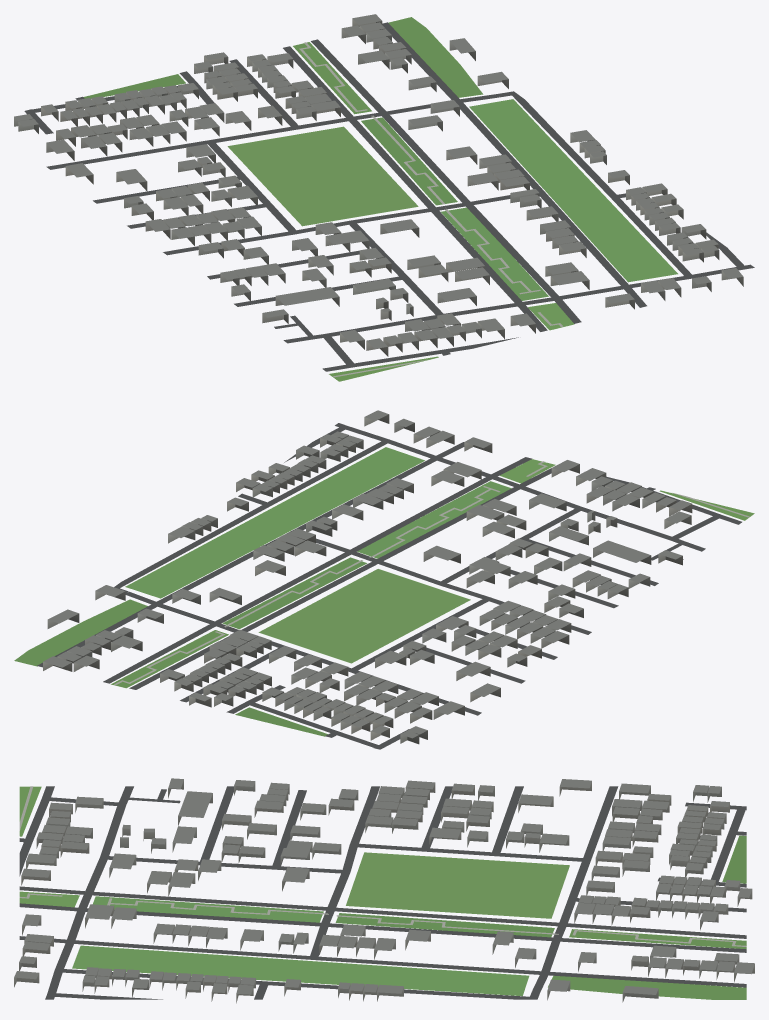
3 renders of one model, top to bottom at view 1: azimuth 30°, elevation 25°; view 2: azimuth 150°, elevation 25°; view 3: azimuth 270°, elevation 25°, orthographic. The views are drawn at different scales.
Visible parts, largest first — view 1: ground, building; view 2: ground, building; view 3: ground, building.
Part boxes in pixels (box(x1,y1,x2,y2)): ground: box(24, 17, 754, 381); building: box(14, 14, 743, 356); ground: box(14, 423, 754, 749); building: box(43, 410, 692, 744); ground: box(19, 786, 746, 999); building: box(14, 778, 754, 1003).
Size of the model in its own units: 354 by 8 by 510.
